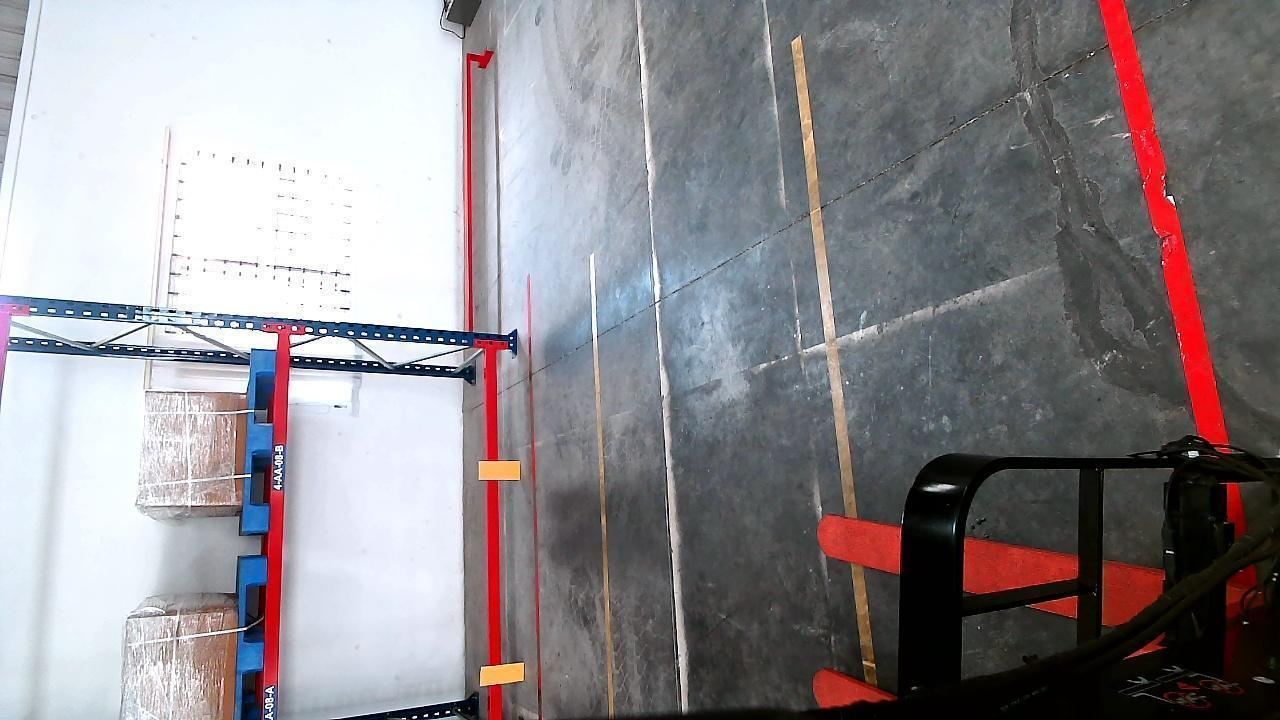red_line: (1092, 0, 1238, 447), (525, 265, 547, 718)
yellow_line: (785, 36, 856, 515), (589, 253, 622, 718)
